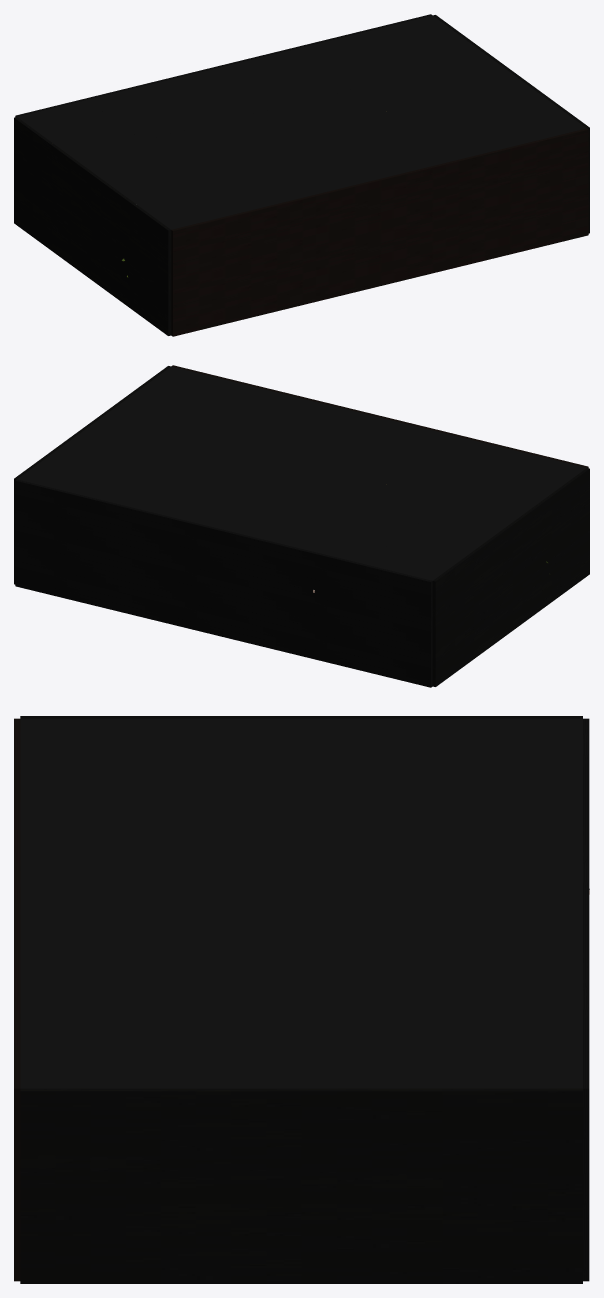
The model's file is room.glb.
3 renders of one model, top to bottom at view 1: azimuth 30°, elevation 25°; view 2: azimuth 150°, elevation 25°; view 3: azimuth 270°, elevation 25°, orthographic. The views are drawn at different scales.
Parts seen in each view (by area): view 1: Room; view 2: Room; view 3: Room.
Part boxes in pixels (x1=…): Room: x1=14, y1=14, x2=589, y2=336; Room: x1=14, y1=365, x2=589, y2=687; Room: x1=14, y1=716, x2=589, y2=1283.
Bounding box in the file's own units: 14.29 × 3.4 × 9.21.
68 materials, 25 textured.
